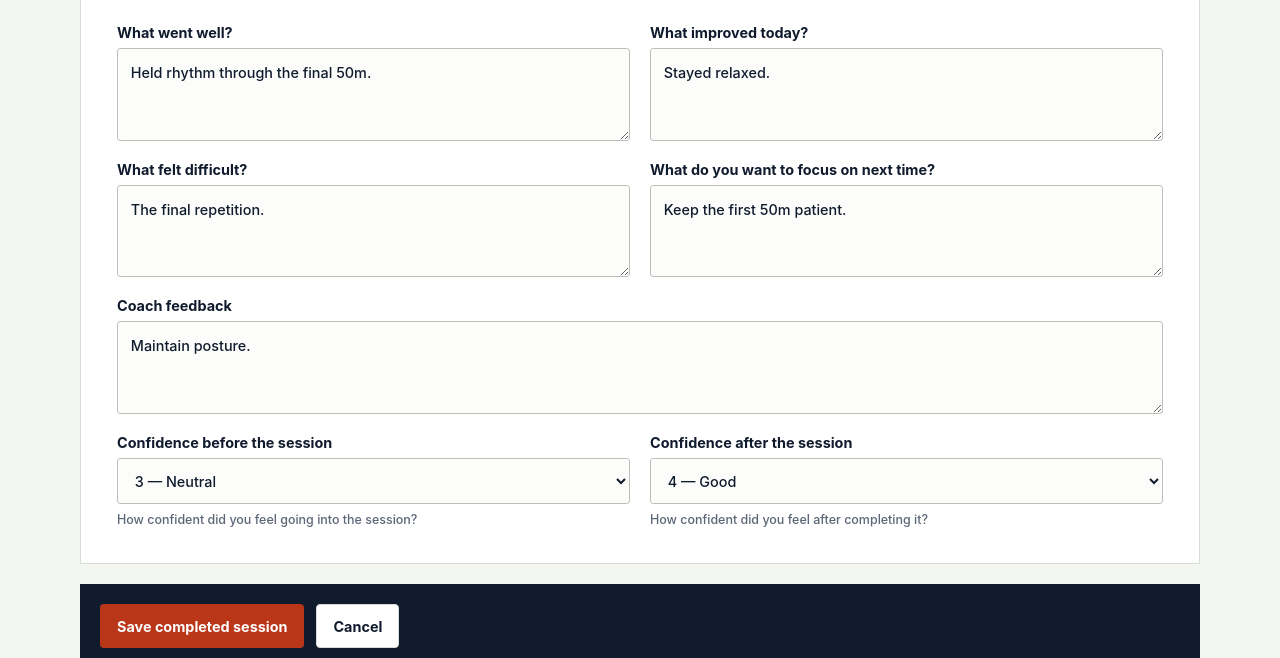
it: session completion and reflection › shows an achievement that became unlocked
(page scrolled)
Click the button "Save completed session": (202, 626) [100, 604, 304, 648]
(page scrolled)
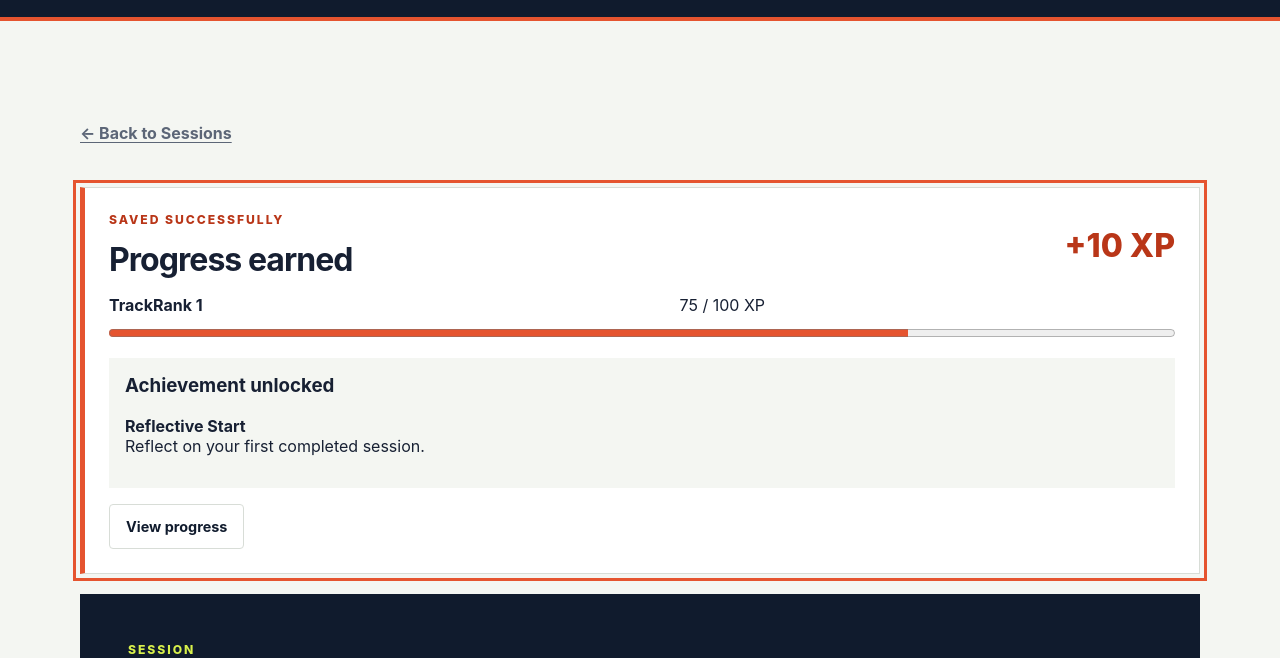
Now the heading "Achievement unlocked" is shown, box [125, 374, 334, 397]
Now the text "Reflective Start" is shown, box [125, 416, 246, 436]
Now the text "Reflect on your first completed session." is shown, box [125, 436, 425, 456]
